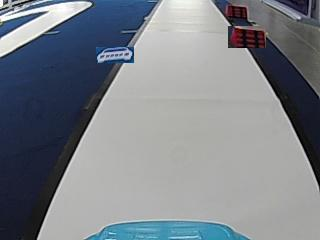bomb: (225, 4, 248, 18)
